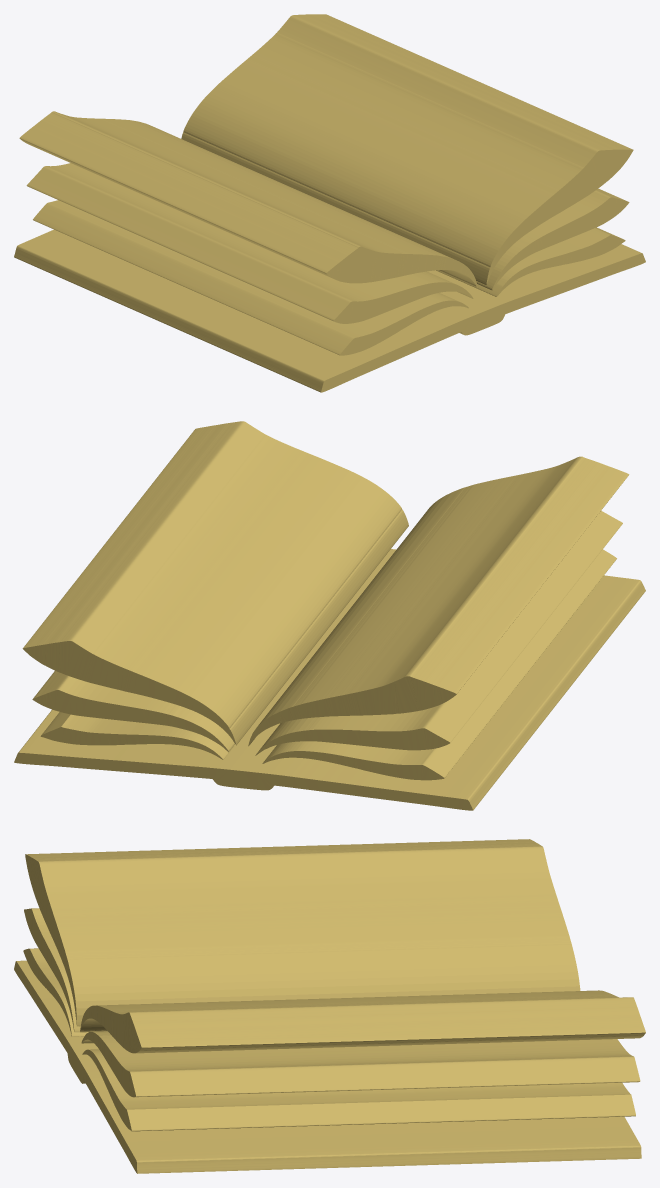
File: Incredible Robo-Duup.glb
The picture shows the model from 3 angles, top to bottom: view 1: azimuth 30°, elevation 25°; view 2: azimuth 150°, elevation 25°; view 3: azimuth 270°, elevation 25°; orthographic projection. The views are drawn at different scales.
Visible parts, largest first — view 1: Mesh_Mesh_head_geo.001_lambert2SG.001; view 2: Mesh_Mesh_head_geo.001_lambert2SG.001; view 3: Mesh_Mesh_head_geo.001_lambert2SG.001.
Part boxes in pixels (bbox=[...]): Mesh_Mesh_head_geo.001_lambert2SG.001: bbox=[14, 14, 645, 392]; Mesh_Mesh_head_geo.001_lambert2SG.001: bbox=[14, 421, 645, 810]; Mesh_Mesh_head_geo.001_lambert2SG.001: bbox=[14, 839, 645, 1173].
Size of the model in its own units: 23.83 by 7.57 by 26.95.
